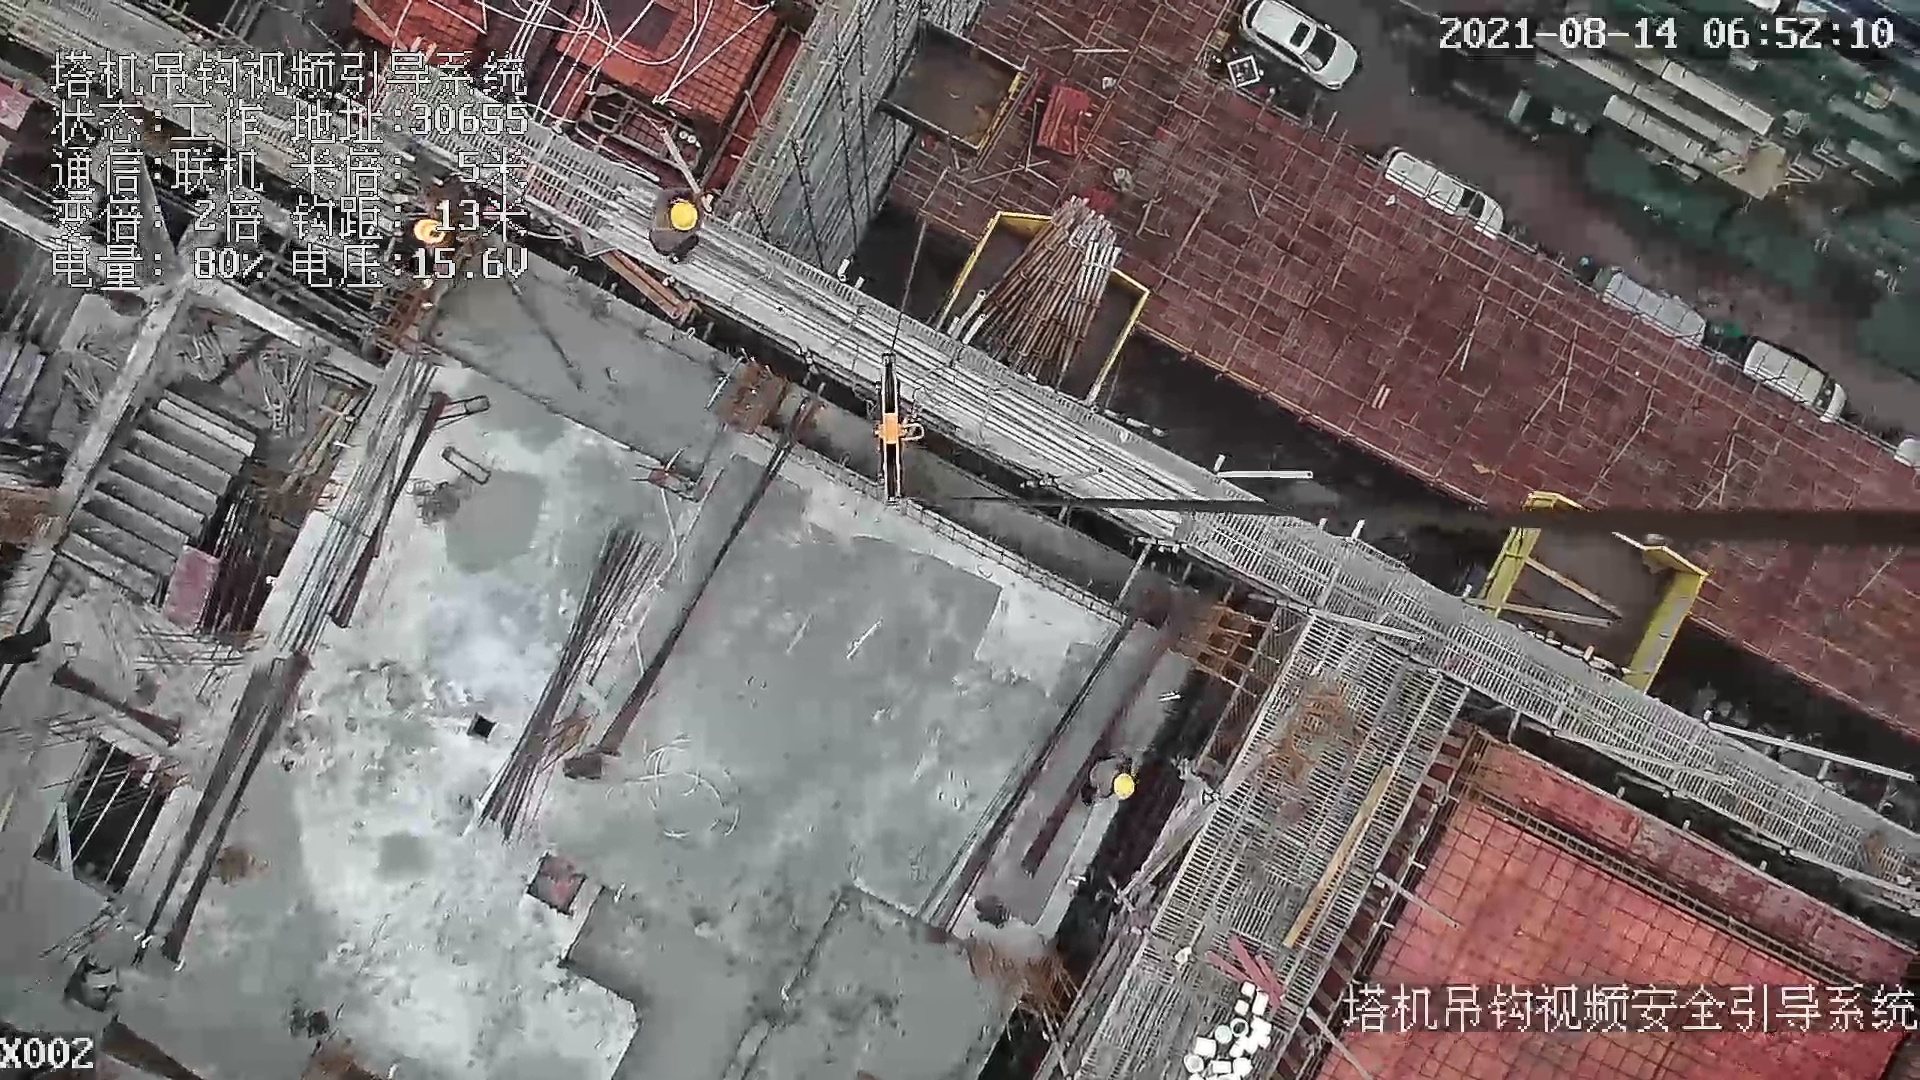helmet: (670, 201, 700, 231), (1113, 773, 1133, 800)
hook: (878, 351, 931, 509)
person: (647, 189, 710, 269), (1067, 747, 1137, 813)
rebar: (601, 184, 1206, 534), (477, 525, 665, 840)
scaffold: (963, 196, 1120, 395)
